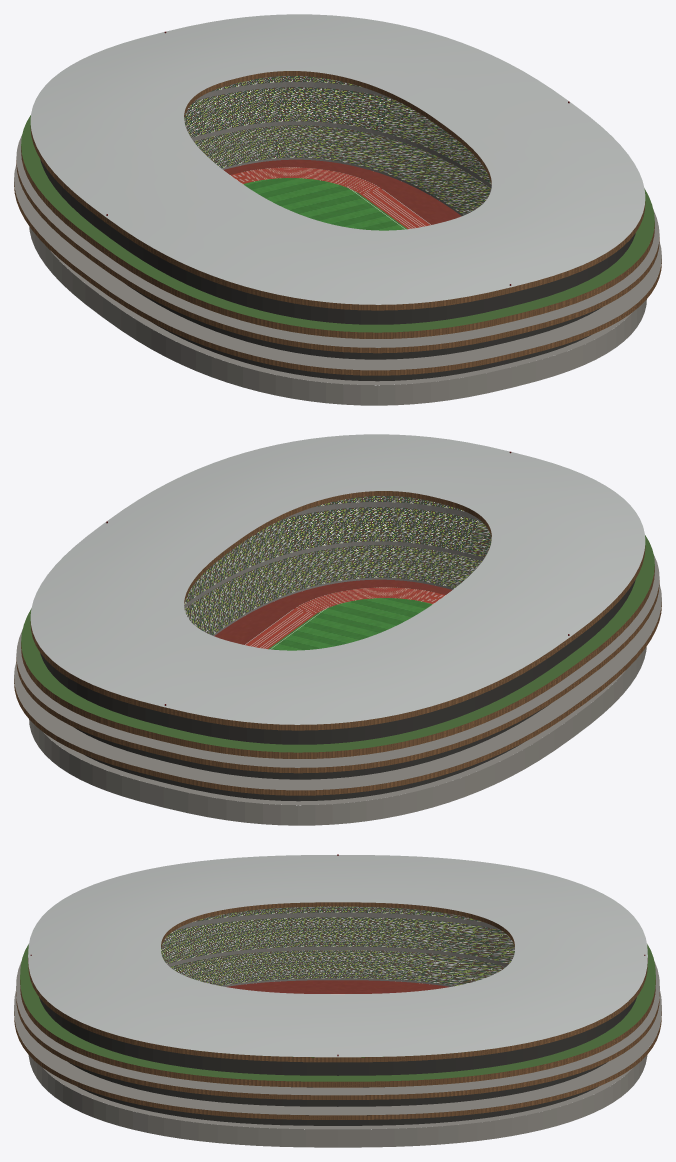
Rendered from national_stadium.glb.
3 renders of one model, top to bottom at view 1: azimuth 30°, elevation 25°; view 2: azimuth 150°, elevation 25°; view 3: azimuth 270°, elevation 25°, orthographic. The views are drawn at different scales.
Parts seen in each view (by area): view 1: NationalStadium_Near; view 2: NationalStadium_Near; view 3: NationalStadium_Near.
Boxes of the visible parts, bbox=[...] form: NationalStadium_Near: bbox=[14, 14, 661, 405]; NationalStadium_Near: bbox=[14, 434, 661, 825]; NationalStadium_Near: bbox=[14, 854, 661, 1147].
Bounding box in the file's own units: 252 × 53.36 × 322.
Materials: 11 (4 with a texture image).
